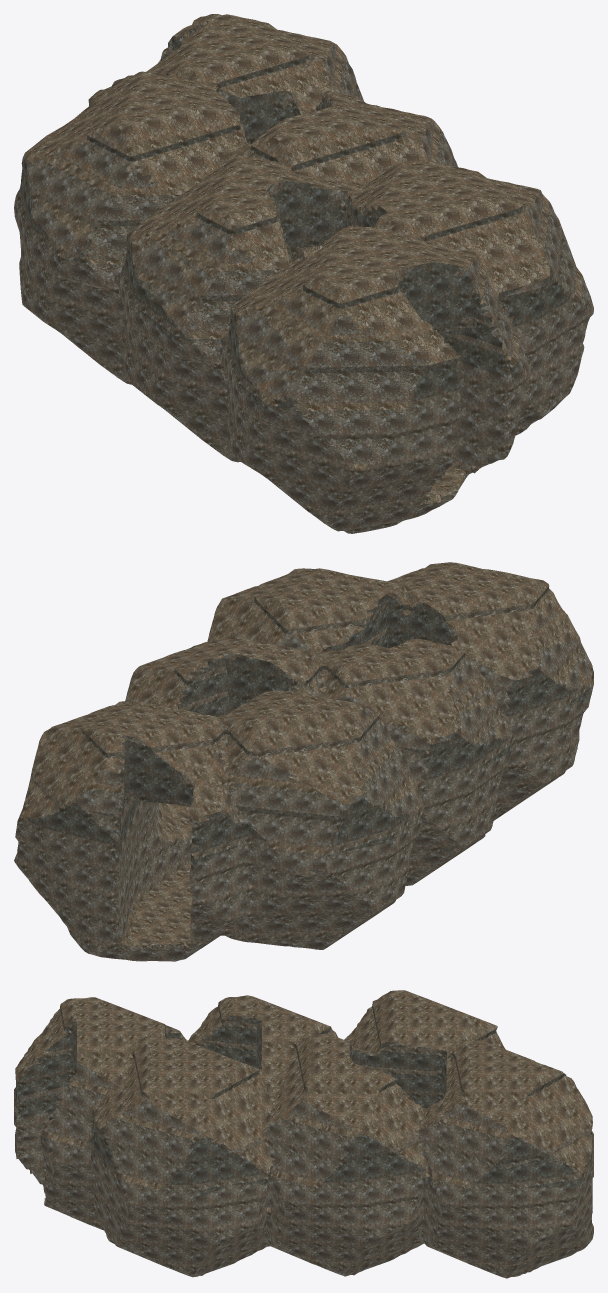
The model's file is yarik_kanyonu.glb.
3 views of the same model, one above another, from view 1: azimuth 30°, elevation 25°; view 2: azimuth 150°, elevation 25°; view 3: azimuth 270°, elevation 25° (orthographic). The views are drawn at different scales.
Visible parts, largest first — view 1: lod0; view 2: lod0; view 3: lod0.
Boxes of the visible parts, x1,y1,x2,y2 form: lod0: (14,14,593,533); lod0: (14,562,593,961); lod0: (14,990,593,1278).
Size of what is drawn, in the model's own units: 430 by 293 by 753.
1 material, 1 textured.
